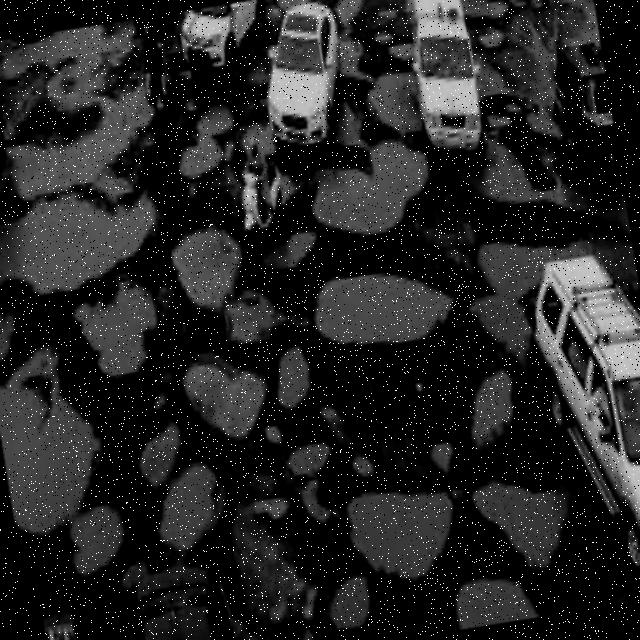pothole: (0, 19, 158, 296), (0, 354, 99, 539), (314, 272, 463, 348), (312, 142, 430, 234), (347, 492, 455, 582), (473, 485, 572, 570), (182, 357, 266, 441), (166, 466, 217, 551)
